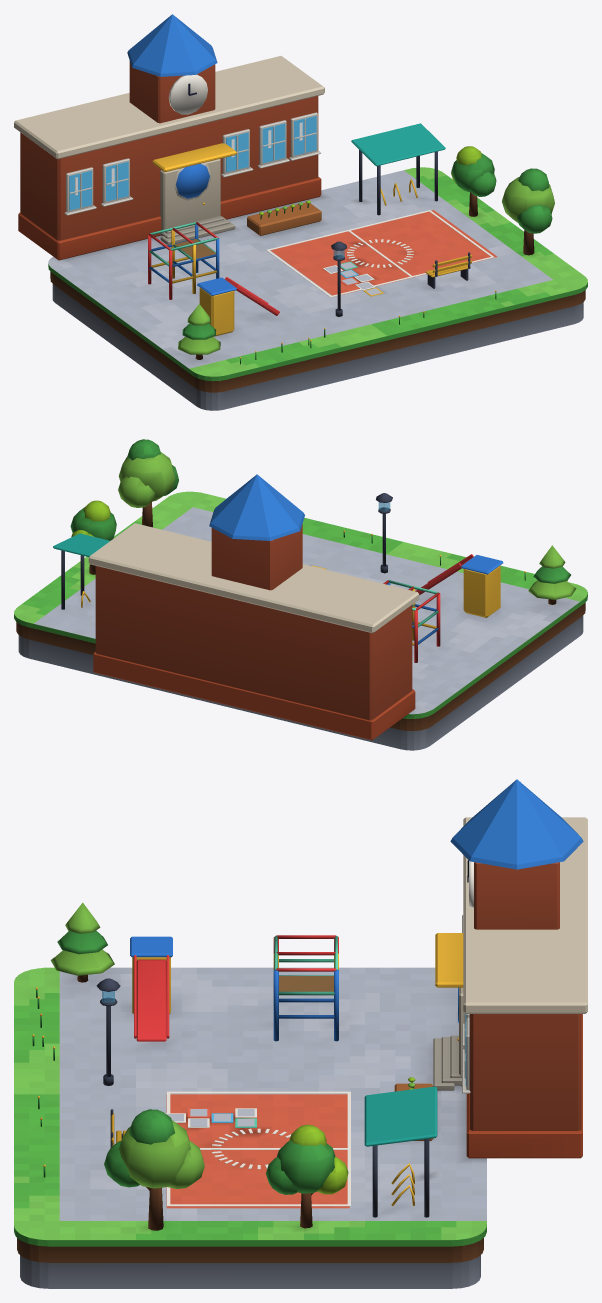
The model's file is schoolyard.glb.
3 views of the same model, one above another, from view 1: azimuth 30°, elevation 25°; view 2: azimuth 150°, elevation 25°; view 3: azimuth 270°, elevation 25° (orthographic). The views are drawn at different scales.
Parts seen in each view (by area): view 1: schoolyard_Satin, schoolyard_Matte, schoolyard_Gloss; view 2: schoolyard_Satin, schoolyard_Matte, schoolyard_Gloss; view 3: schoolyard_Matte, schoolyard_Satin, schoolyard_Gloss.
Part boxes in pixels (<box>): schoolyard_Satin: <box>14,55,585,410</box>; schoolyard_Matte: <box>48,167,587,381</box>; schoolyard_Gloss: <box>69,14,496,358</box>; schoolyard_Satin: <box>16,439,585,750</box>; schoolyard_Matte: <box>14,491,587,718</box>; schoolyard_Gloss: <box>53,474,525,662</box>; schoolyard_Matte: <box>14,967,486,1246</box>; schoolyard_Satin: <box>17,817,587,1288</box>; schoolyard_Gloss: <box>32,779,583,1217</box>.
Size of the model in its own units: 15.25 by 8.72 by 13.35.
